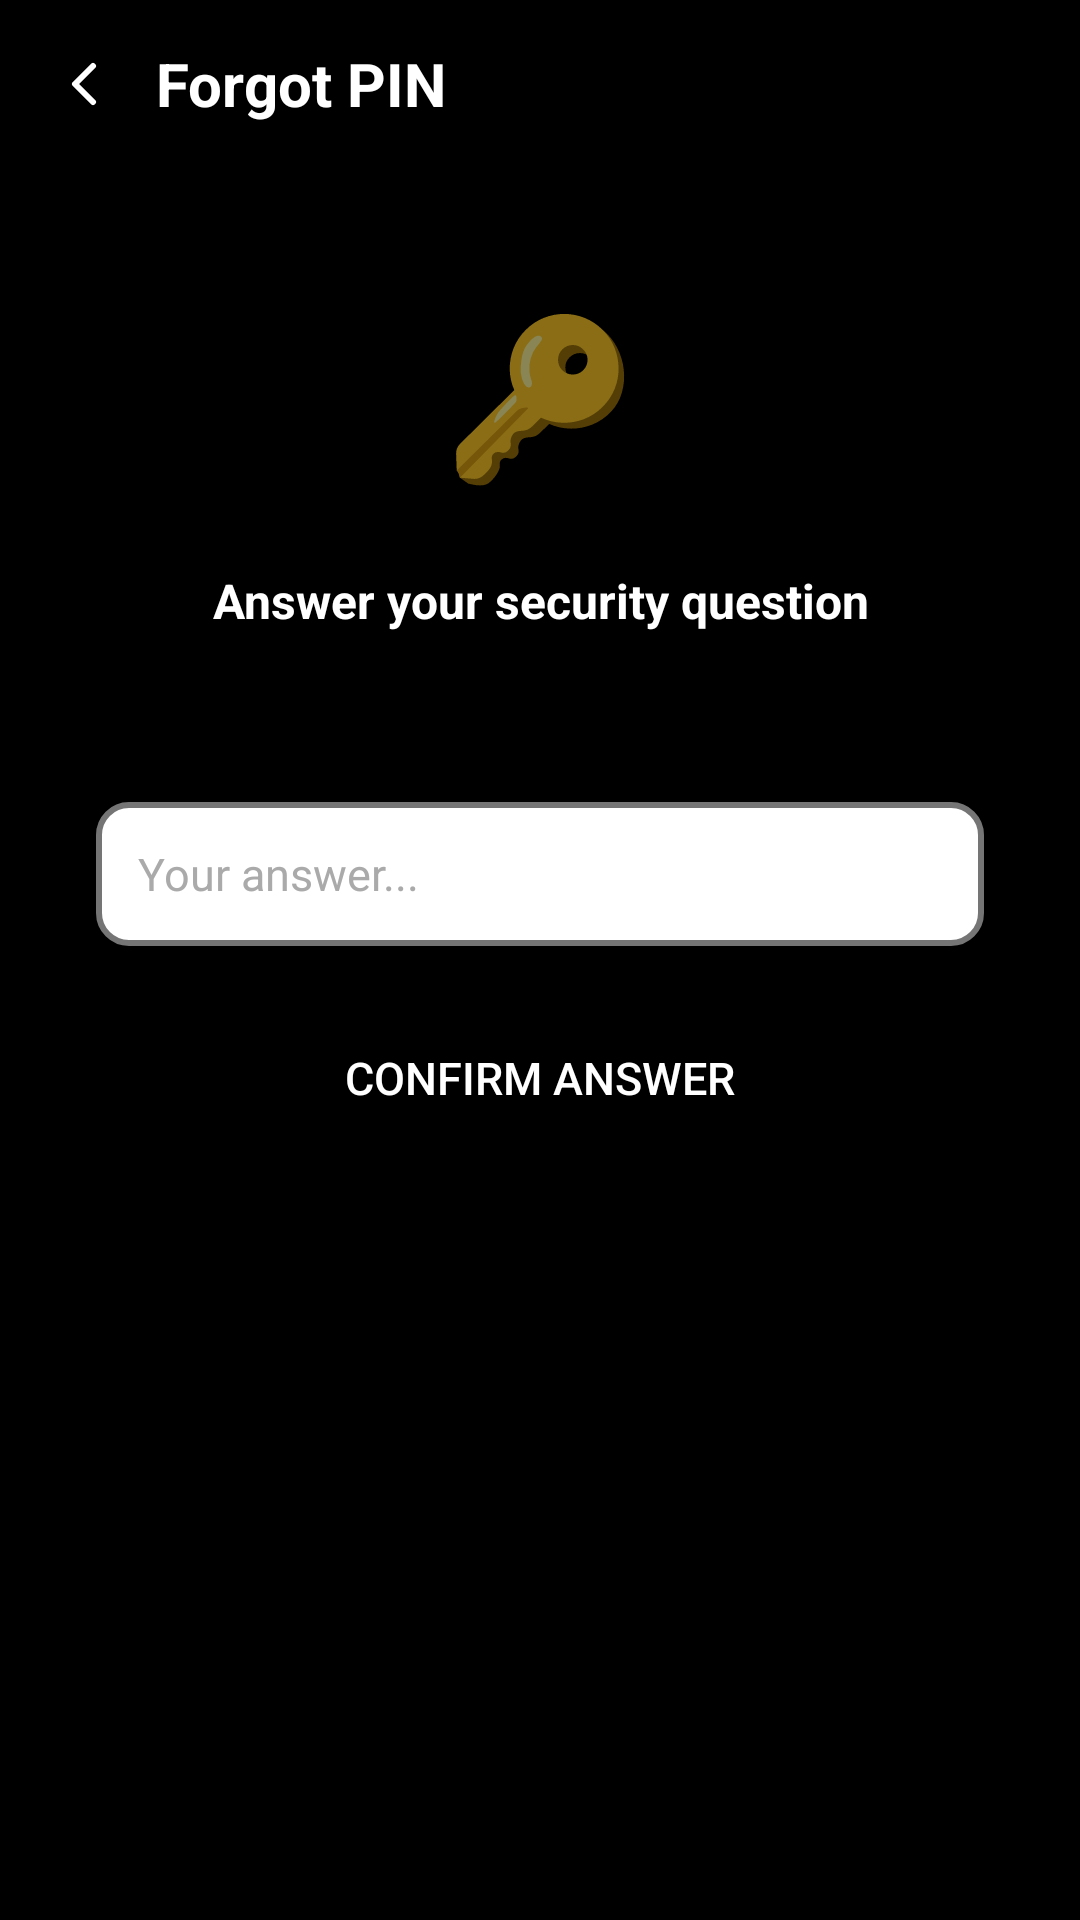

Where icons sit on this 1080w x 1920h app screen, as {"left": x1, "top": y1, "right": x2, "bottom": y2}:
Back: {"left": 72, "top": 63, "right": 96, "bottom": 105}
